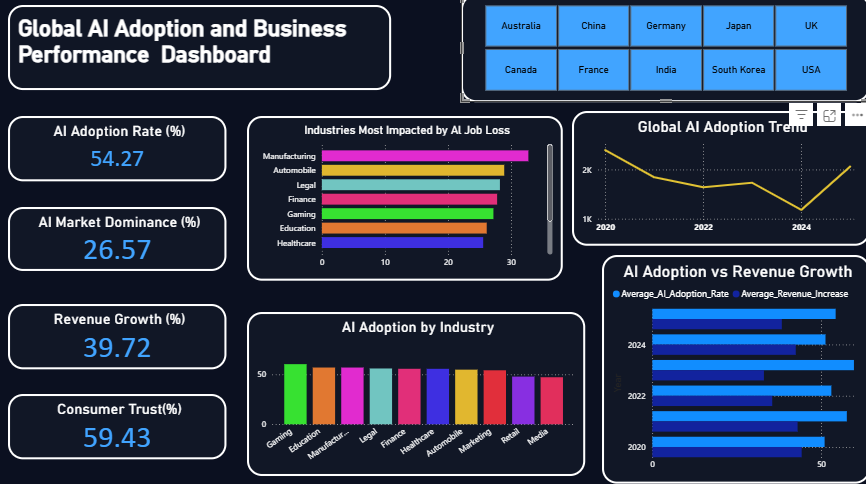

What the dashboard file says about the page in this screenshot:
{"tool":"powerbi","page":{"name":"Page 1","canvas":[1280,720],"ordinal":0},"visuals":[{"type":"card","title":" AI Adoption Rate (%)","fields":{"Values":["Meaures.Average_AI_Adoption_Rate"]},"box":[13.4,179.7,320.8,95.7],"z":0},{"type":"card","title":" Revenue Growth (%)","fields":{"Values":["Meaures.Average_Revenue_Increase"]},"box":[13.4,455.2,320.8,95.7],"z":1000},{"type":"card","title":"Consumer Trust(%)","fields":{"Values":["Meaures.Average_Consumer_Trust"]},"box":[13.4,587.9,320.8,95.7],"z":2000},{"type":"card","title":"AI Market  Dominance (%)","fields":{"Values":["Meaures.Average_market_Share"]},"box":[13.4,312.4,320.8,94.1],"z":3000},{"type":"lineChart","title":"Global AI Adoption Trend","fields":{"Category":["AI_Facts.Year"],"Y":["Sum(AI_Facts.AI_Adoption_Rate)"]},"box":[842,171.9,437.9,198.4],"z":4000},{"type":"columnChart","title":"AI Adoption by Industry","fields":{"Y":["Meaures.Average_AI_Adoption_Rate"],"Category":["Dim_Industry.Industry"]},"box":[364.4,467.3,496.7,241],"z":5000},{"type":"clusteredBarChart","title":"AI Adoption vs Revenue Growth","fields":{"Category":["AI_Facts.Year","Dim_Country.Country"],"Y":["Meaures.Average_AI_Adoption_Rate","Meaures.Average_Revenue_Increase"]},"box":[886,383.5,393.8,336.5],"z":6000},{"type":"slicer","fields":{"Values":["Dim_Country.Country"]},"box":[678.9,0,601,158.7],"z":7000},{"type":"clusteredBarChart","title":"Industries Most Impacted by Al Job Loss","fields":{"Category":["Dim_Industry.Industry"],"Y":["Table.Average Job Loss"]},"box":[364.4,179.3,464.3,242.4],"z":8000},{"type":"textbox","box":[13.2,16.2,562.8,124.9],"z":9000}]}

Visuals, with their boxes in screenshot pixels (x1, y1, x2, y2), scaled from the page's 1280x720 canvas onto the 866x484 screenshot:
" AI Adoption Rate (%)" card: 9, 121, 226, 185
" Revenue Growth (%)" card: 9, 306, 226, 370
"Consumer Trust(%)" card: 9, 395, 226, 460
"AI Market  Dominance (%)" card: 9, 210, 226, 273
"Global AI Adoption Trend" lineChart: 570, 116, 865, 249
"AI Adoption by Industry" columnChart: 247, 314, 583, 476
"AI Adoption vs Revenue Growth" clusteredBarChart: 599, 258, 865, 483
slicer - Dim_Country.Country: 459, 0, 865, 107
"Industries Most Impacted by Al Job Loss" clusteredBarChart: 247, 121, 561, 283
textbox: 9, 11, 390, 95
